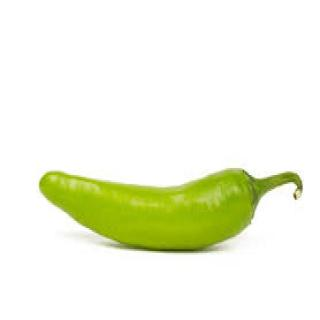Cabai Hijau: (34, 160, 298, 256)
